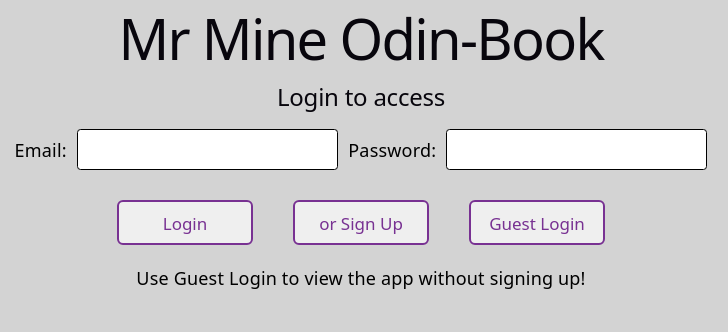
Login component › shows an error when the request rejects
The width and height of the screenshot is (728, 332).
Step 1. Type "test@example.com" into the field labelled "Email:" → [208, 150], box 77,129 -> 338,170
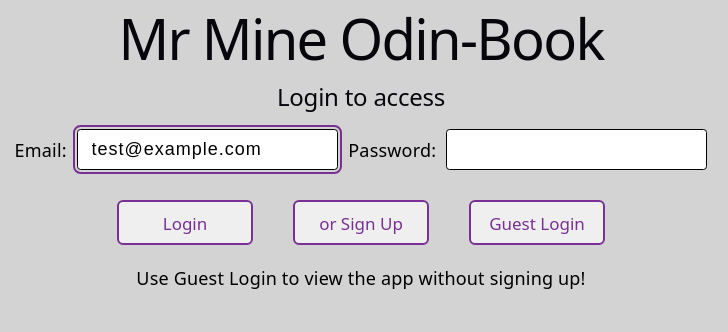
Step 2. Type "test-password" into the password field labelled "Password:" → [577, 150], box 446,129 -> 707,170
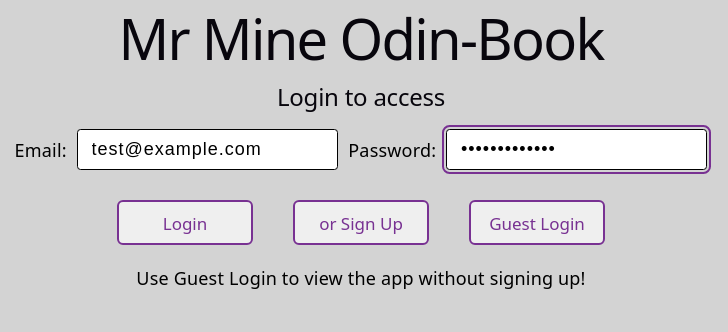
Step 3. Click the button "Login" → [185, 222], box 117,200 -> 253,245
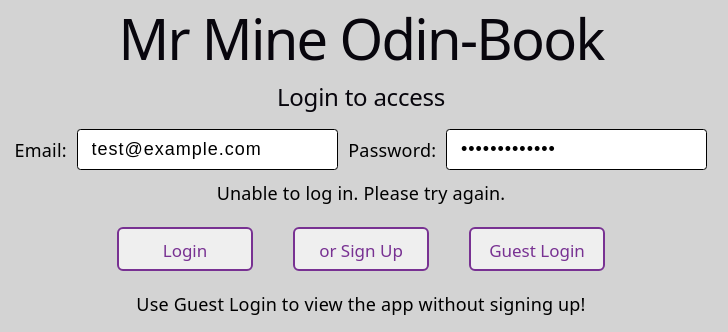
Check: the button "Login" is shown, box 117,226 -> 253,271
Check: the text "Unable to log in. Please try again." is shown, box 217,181 -> 505,205
